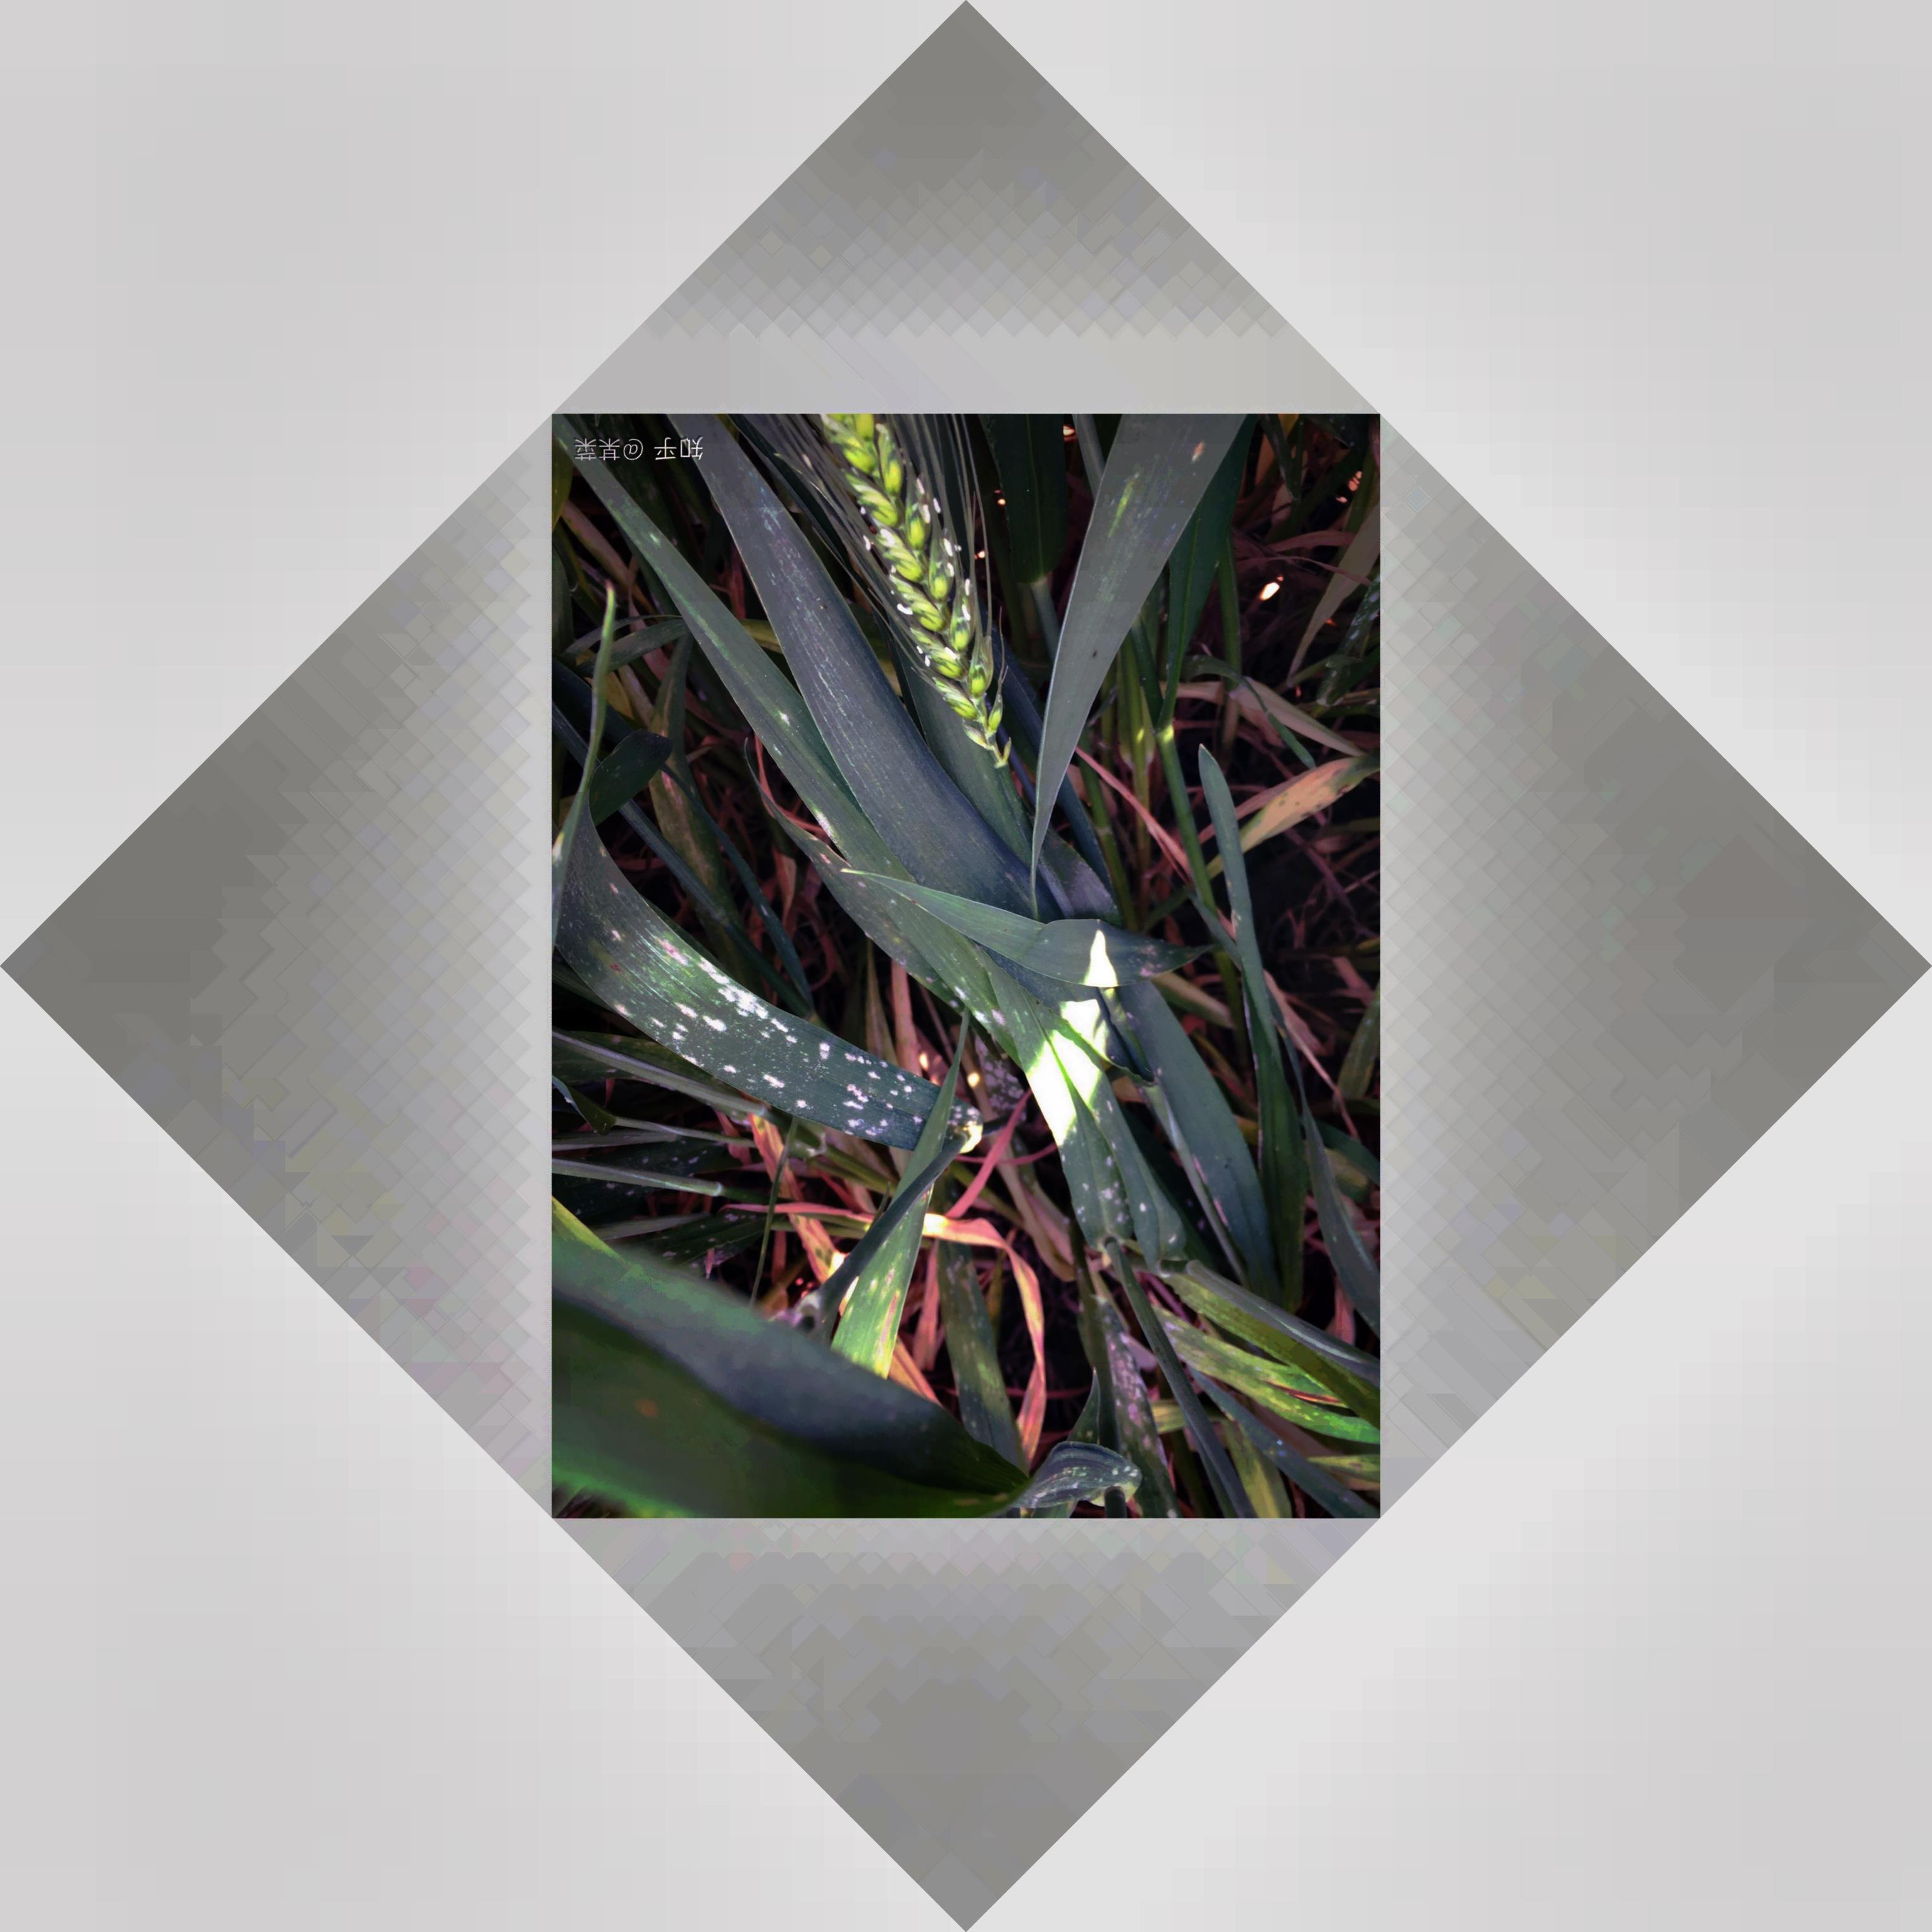Powdery Mildew: (632, 948, 915, 1141)
